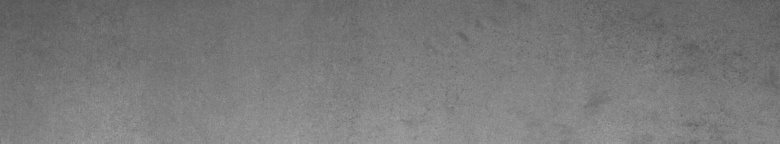ib: (655, 52, 742, 131)
